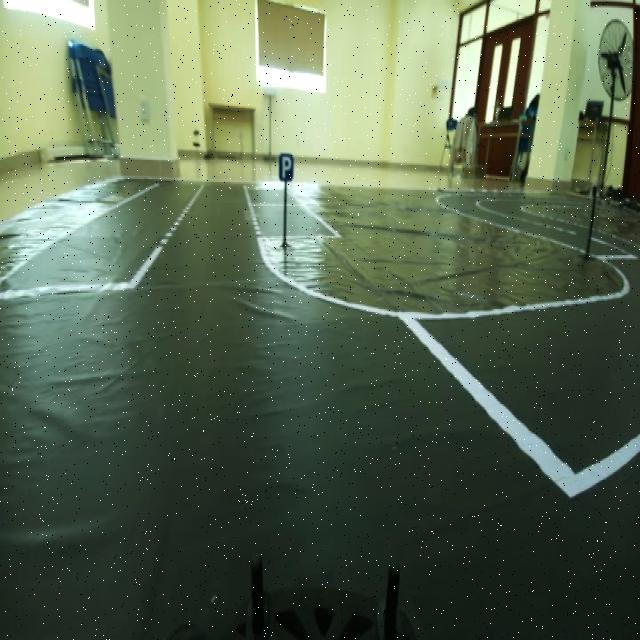parking: (276, 138, 298, 192)
